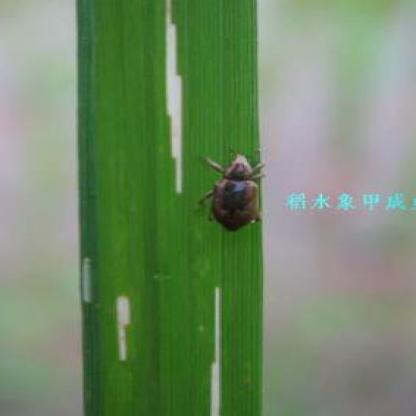rice-bug: (198, 150, 271, 232)
